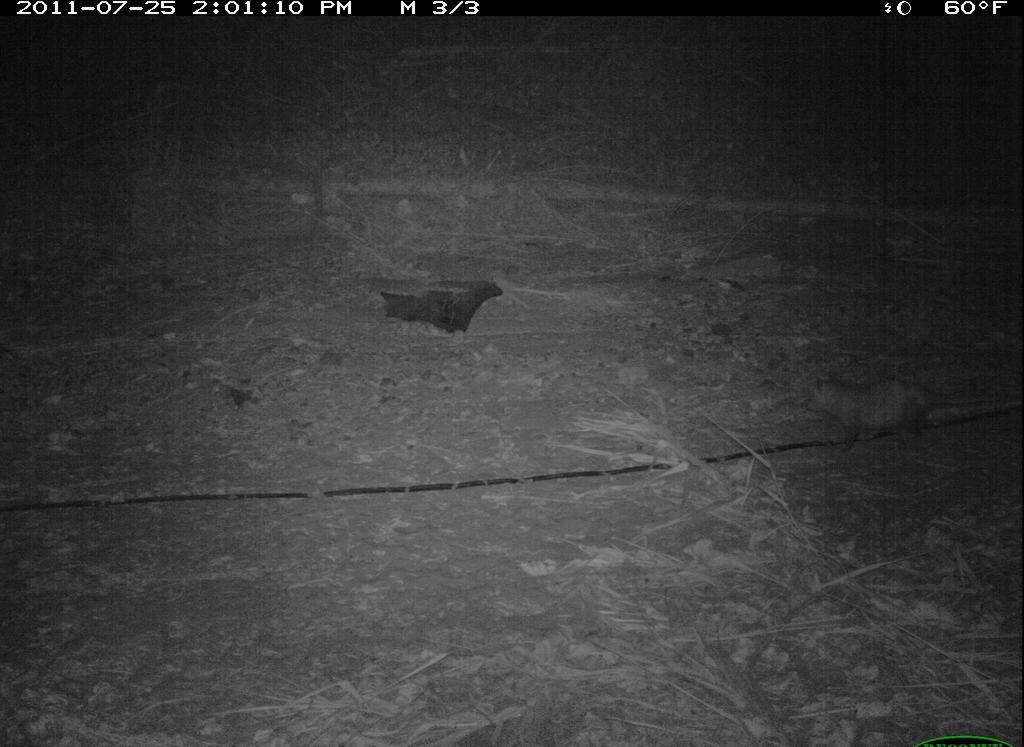opossum: (797, 360, 1013, 463)
